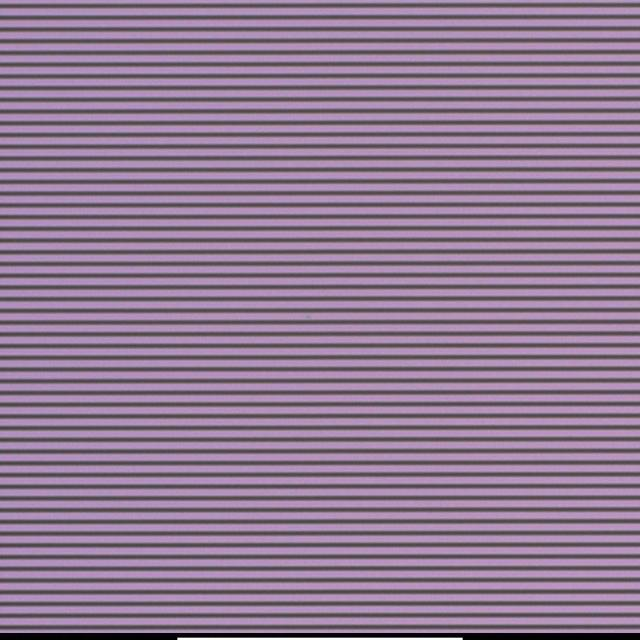nonvisual: (303, 310, 311, 324)
